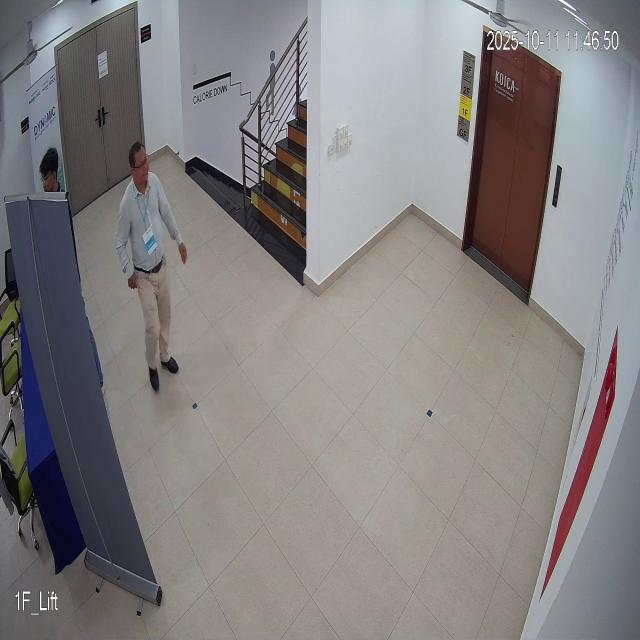face: (128, 137, 152, 186)
